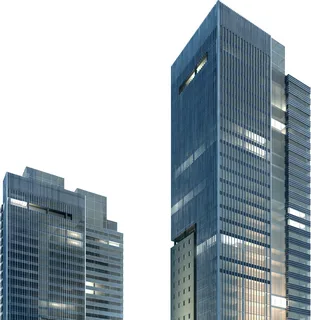high_rise_building: (162, 2, 290, 312)
